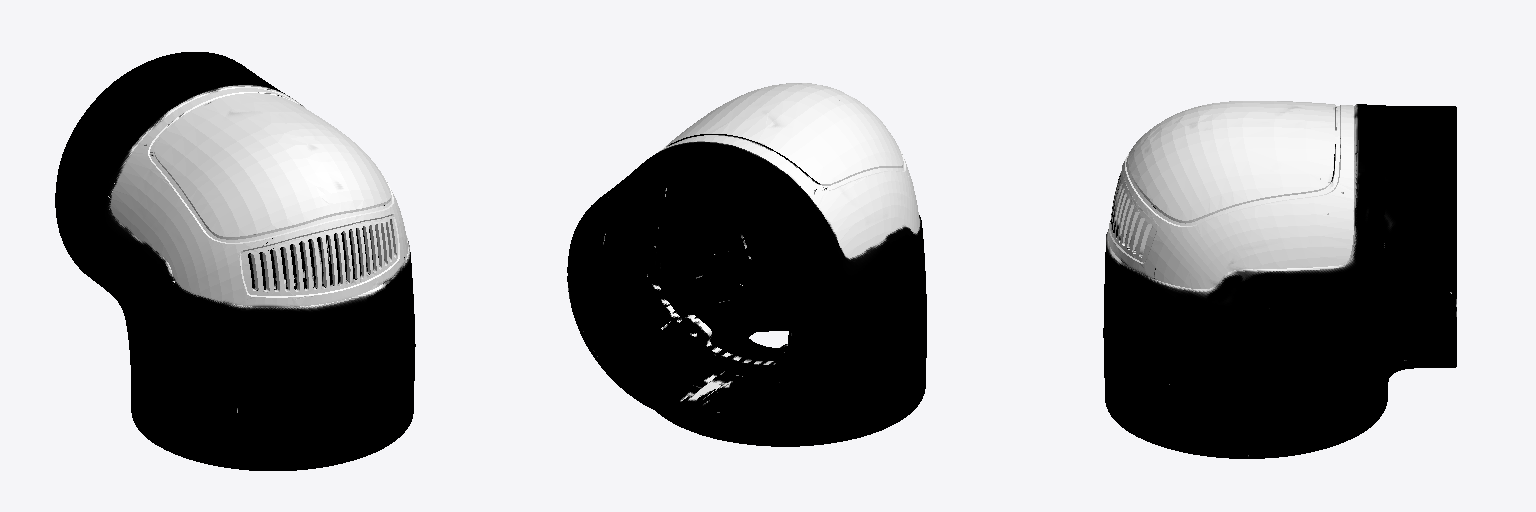
3 views of the same model, side by side, from view 1: azimuth 30°, elevation 25°; view 2: azimuth 150°, elevation 25°; view 3: azimuth 270°, elevation 25° (orthographic).
Parts seen in each view (by area): view 1: Link4; view 2: Link4; view 3: Link4.
Part boxes in pixels (x1,y1,x2,y2): Link4: (55, 52, 415, 470); Link4: (567, 83, 926, 446); Link4: (1103, 101, 1456, 458).
Size of the model in its own units: 0.0698 by 0.0779 by 0.0866.
1 materials, 1 textured.